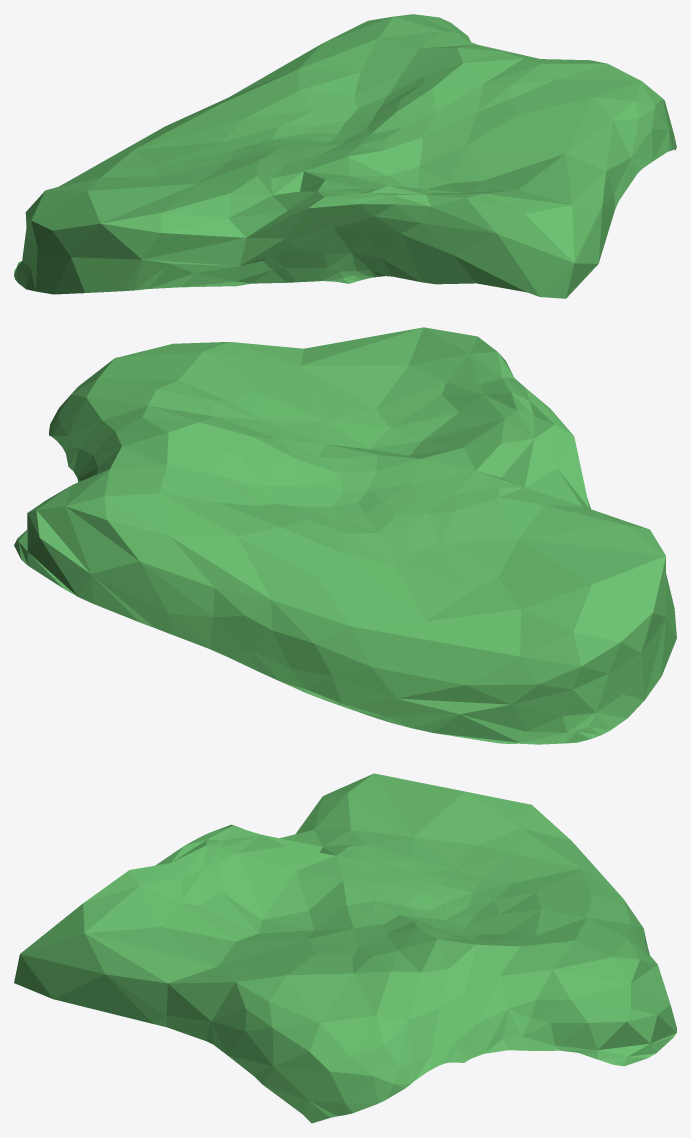
Rendered from ground_044.fbx.
3 renders of one model, top to bottom at view 1: azimuth 30°, elevation 25°; view 2: azimuth 150°, elevation 25°; view 3: azimuth 270°, elevation 25°, orthographic. The views are drawn at different scales.
Visible parts, largest first — view 1: ground.044; view 2: ground.044; view 3: ground.044.
Part boxes in pixels (x1,y1,x2,y2): ground.044: [14, 14, 676, 298]; ground.044: [14, 327, 676, 744]; ground.044: [14, 773, 676, 1123].
Size of the model in its own units: 2704 by 686 by 2374.
Materials: 1 (1 with a texture image).
